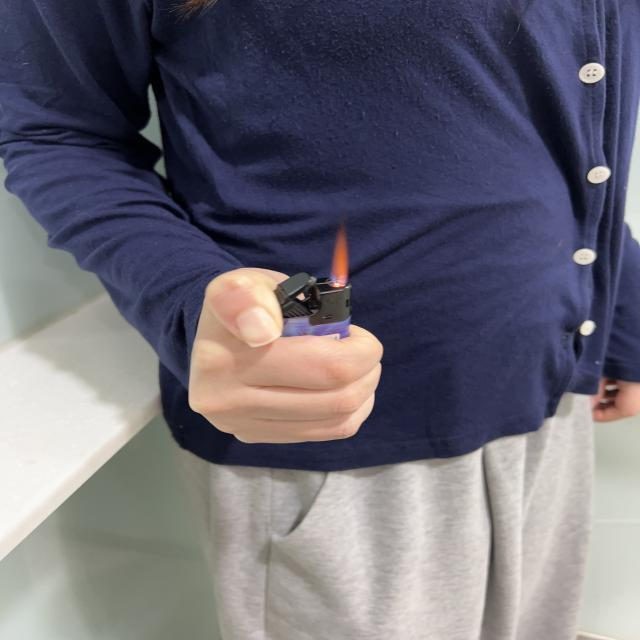fire: (331, 224, 350, 286)
